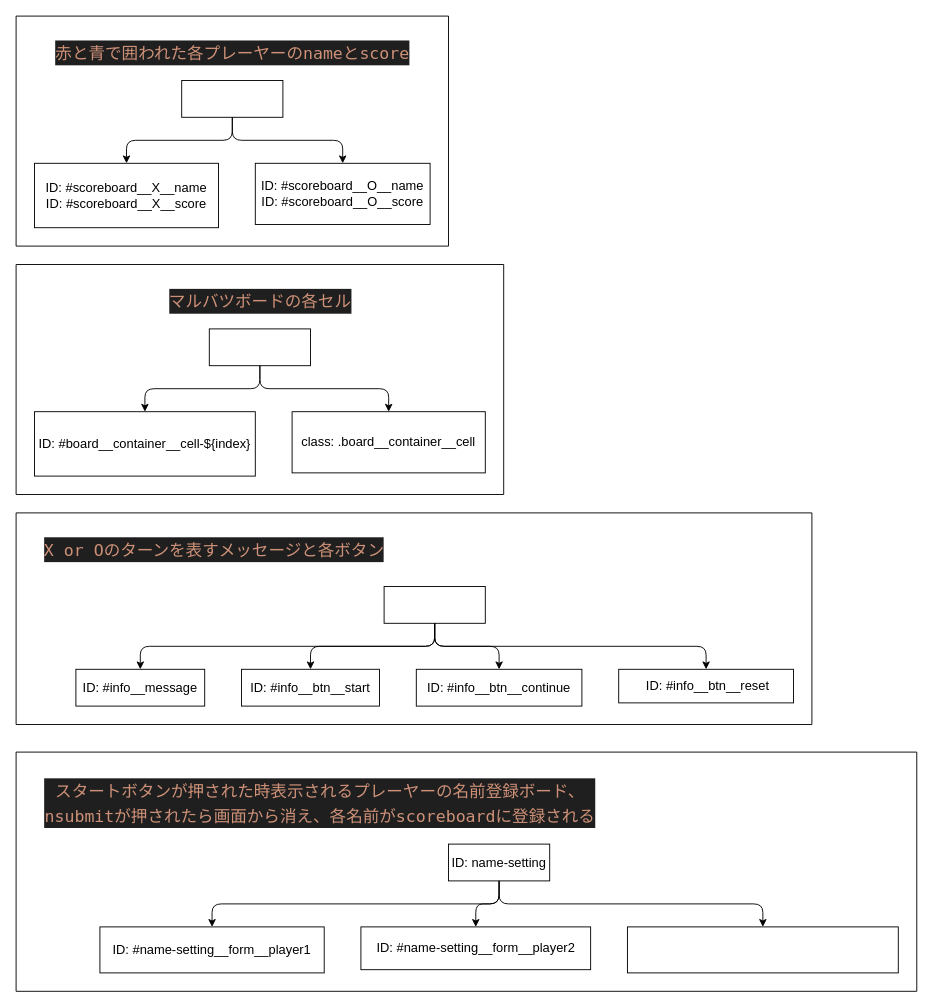
This 933x1007 diagram has some shape labels left out. Here are the shapes that lost their labels. From the top down, the centre of each, then its label:
At point 232,98: "ID: scoreboard".
At point 259,347: "ID: board".
At point 434,604: "ID: info".
At point 762,949: "ID: #name-setting__form__submit".
